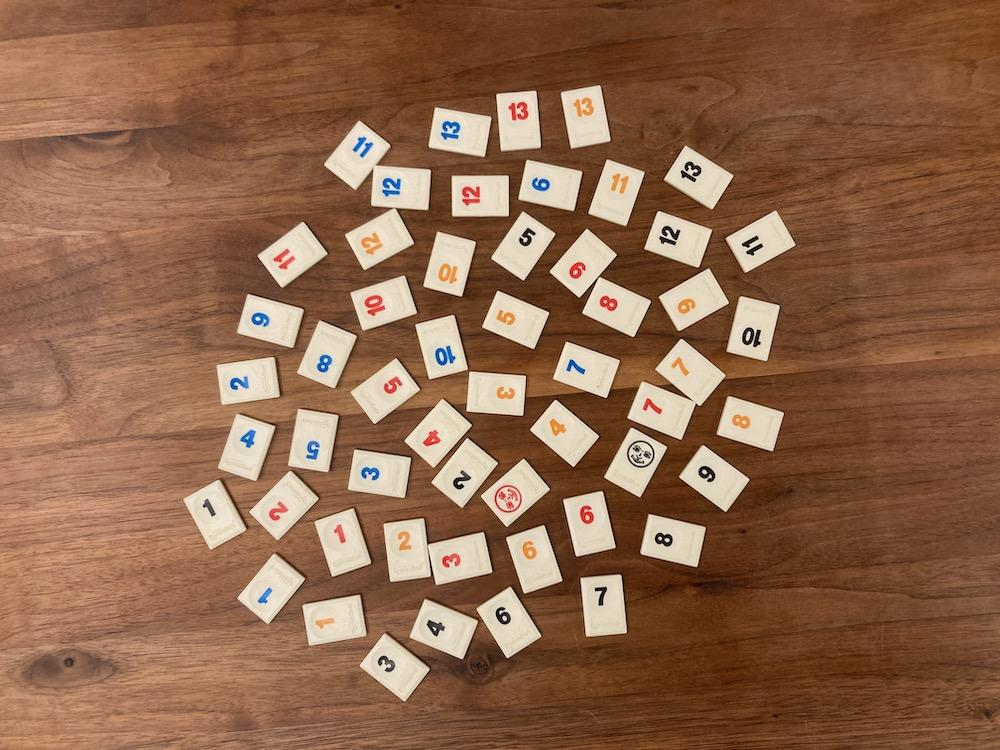black_1: (184, 480, 246, 549)
black_10: (727, 297, 779, 361)
black_11: (727, 211, 795, 273)
black_12: (646, 211, 711, 268)
black_13: (664, 146, 732, 209)
black_2: (432, 438, 498, 508)
black_3: (361, 633, 430, 701)
black_4: (411, 600, 479, 658)
black_5: (492, 213, 555, 279)
black_6: (479, 588, 541, 658)
black_7: (581, 575, 626, 636)
black_8: (642, 514, 705, 566)
black_9: (680, 445, 748, 512)
blue_1: (238, 553, 305, 623)
blue_10: (417, 314, 469, 379)
blue_11: (324, 121, 391, 189)
blue_12: (373, 166, 432, 210)
blue_13: (430, 107, 492, 156)
blue_2: (218, 357, 279, 404)
blue_3: (349, 449, 412, 498)
blue_4: (219, 414, 275, 480)
blue_5: (290, 408, 338, 473)
blue_6: (518, 161, 582, 211)
blue_7: (553, 342, 619, 398)
blue_8: (299, 320, 357, 389)
blue_9: (239, 295, 303, 348)
joker: (482, 459, 549, 525), (605, 428, 666, 496)
orange_1: (304, 596, 367, 646)
orange_10: (424, 233, 477, 297)
orange_11: (590, 160, 645, 227)
orange_12: (347, 209, 414, 270)
orange_13: (562, 87, 611, 147)
orange_2: (383, 519, 432, 582)
orange_3: (468, 371, 524, 415)
orange_4: (531, 400, 600, 467)
orange_5: (482, 291, 549, 350)
orange_6: (508, 525, 562, 594)
orange_7: (656, 340, 725, 404)
orange_8: (718, 396, 783, 450)
orange_9: (658, 268, 729, 330)
red_1: (314, 508, 371, 576)
red_10: (350, 275, 416, 330)
red_11: (259, 223, 328, 287)
red_12: (452, 176, 510, 217)
red_13: (497, 90, 540, 149)
red_2: (250, 471, 318, 539)
red_3: (428, 531, 492, 586)
red_4: (404, 400, 471, 467)
red_5: (352, 359, 420, 424)
red_6: (562, 493, 614, 557)
red_7: (627, 381, 695, 439)
red_8: (582, 277, 650, 338)
red_9: (551, 229, 617, 297)
